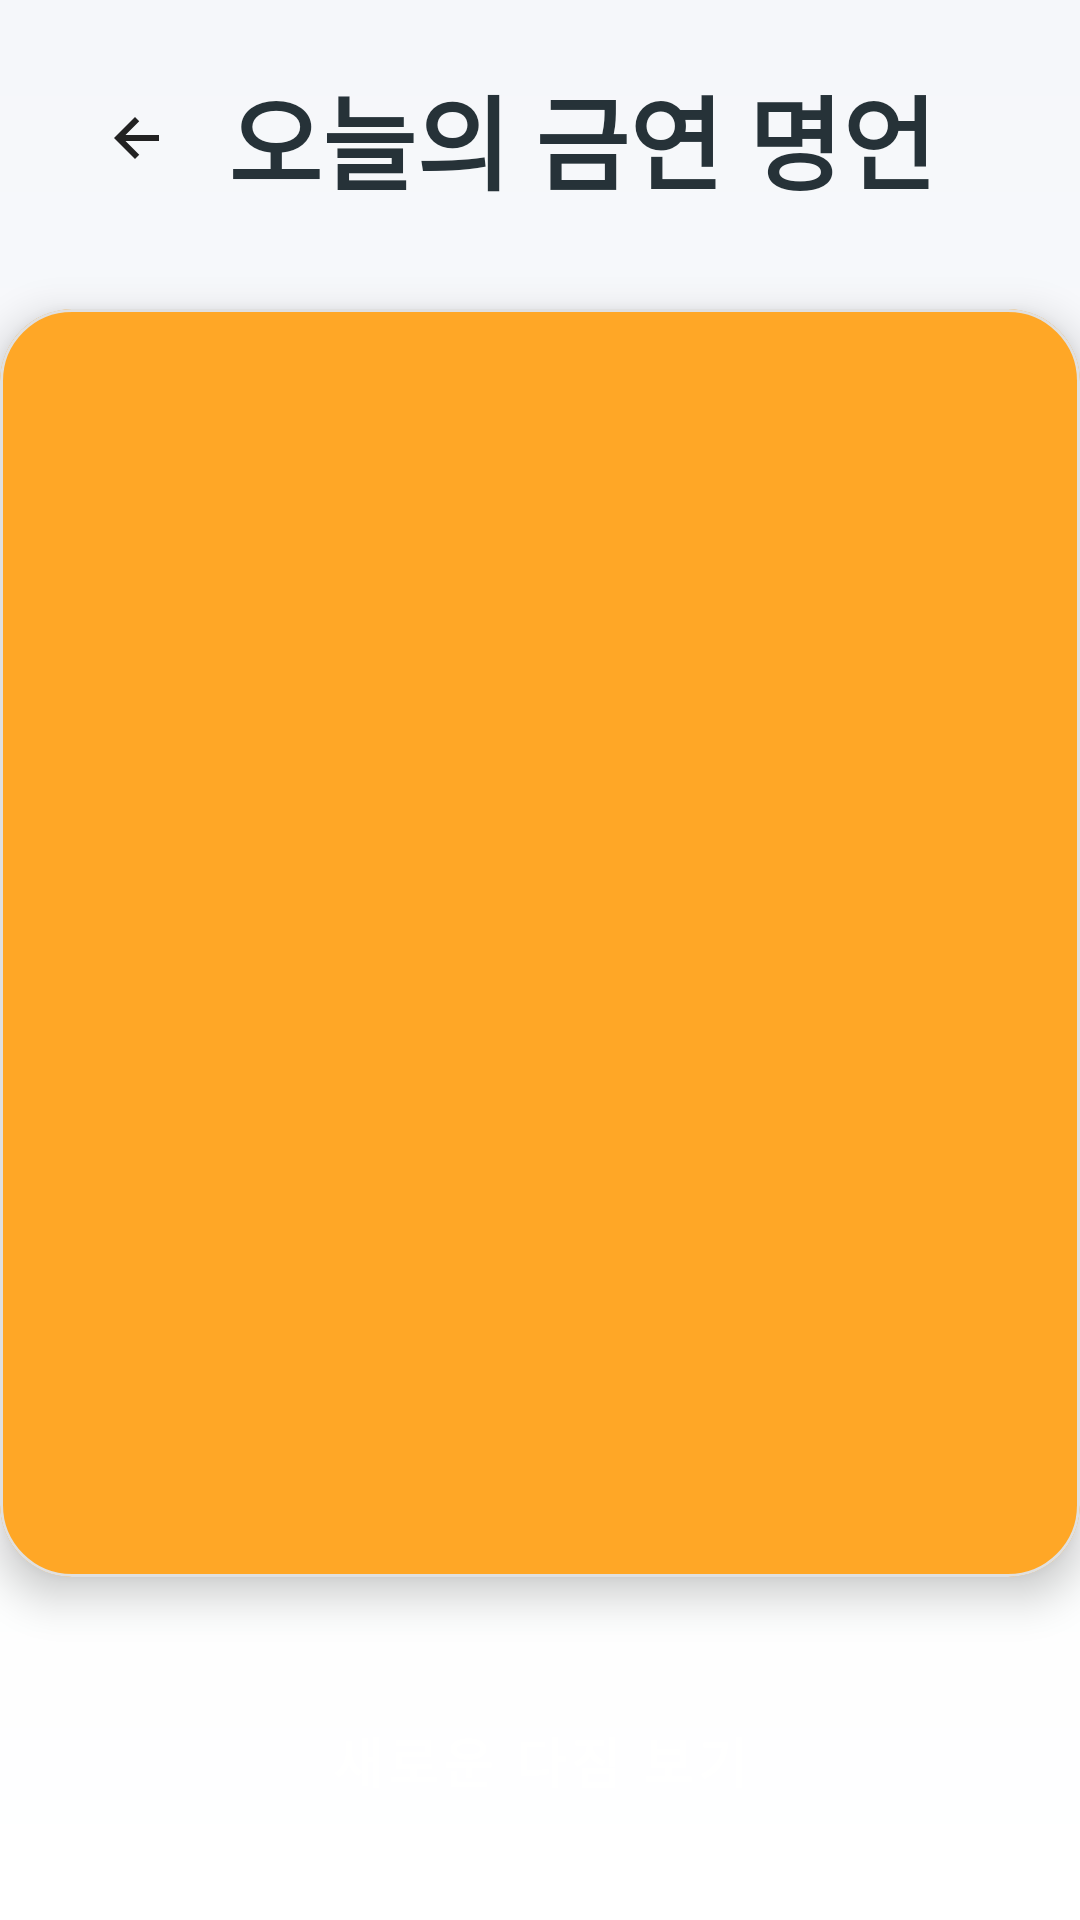

Icon click points for this 1080px x 1920px phone screenshot, format (x=x, y=y):
Back: (x=136, y=138)
